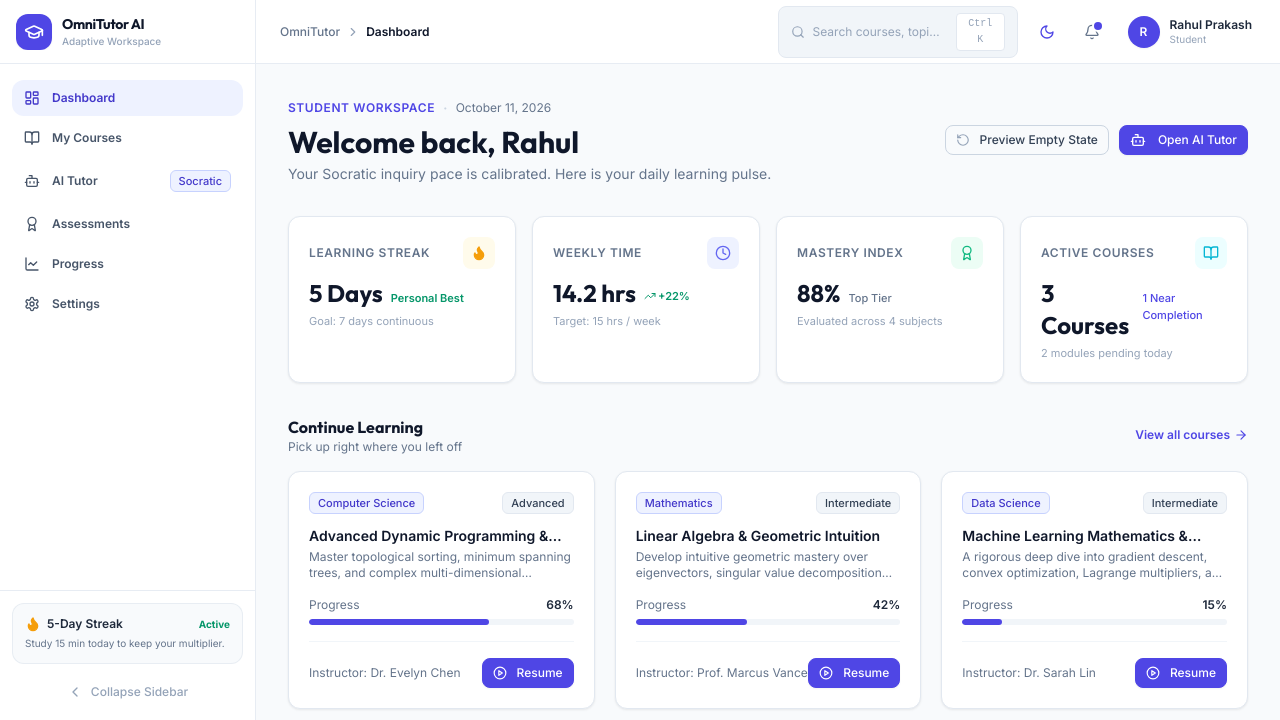
Test: OmniTutor AI SaaS Application Shell & Design System › Toggles between populated view and empty state view on the dashboard
The image size is (1280, 720).
Click to activate empty state
Step 1. Click the button "Preview Empty State" → click(1027, 140), box [945,125,1109,155]
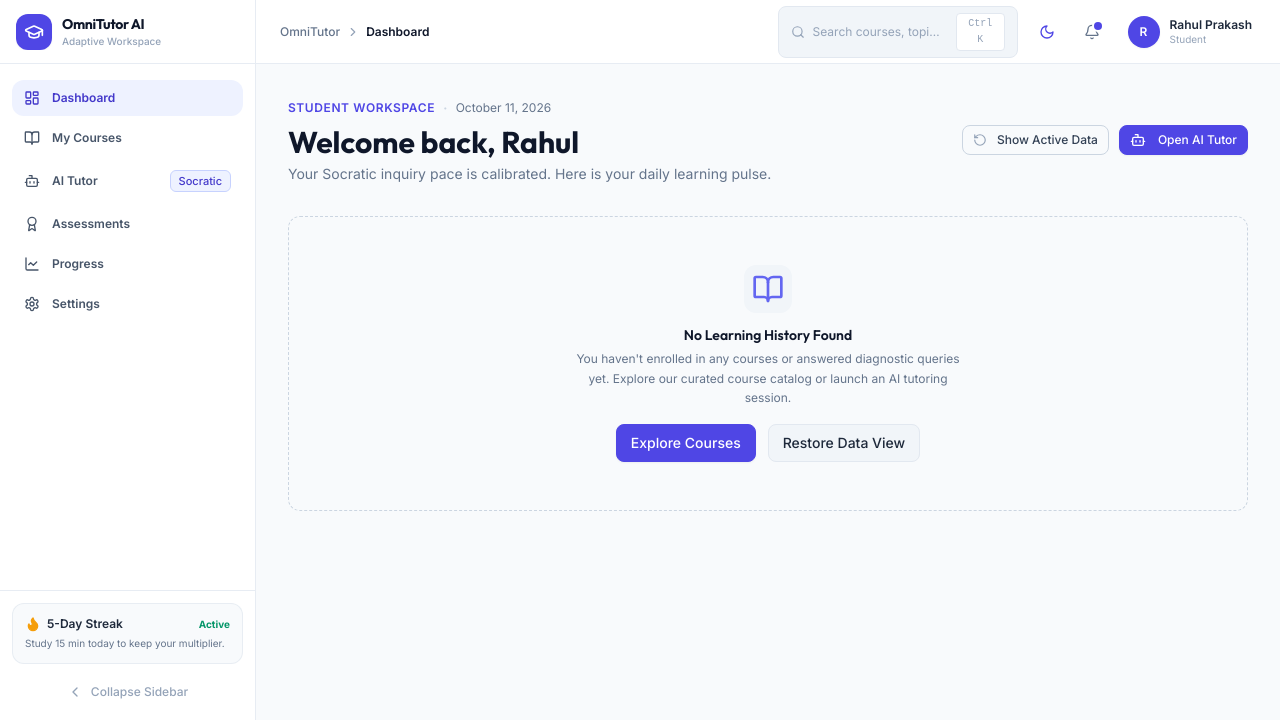
Expected: the heading "No Learning History Found" is shown, [684,325,852,345]
Click restore
Step 2. Click the button "Restore Data View" → click(844, 442), box [768,424,920,462]
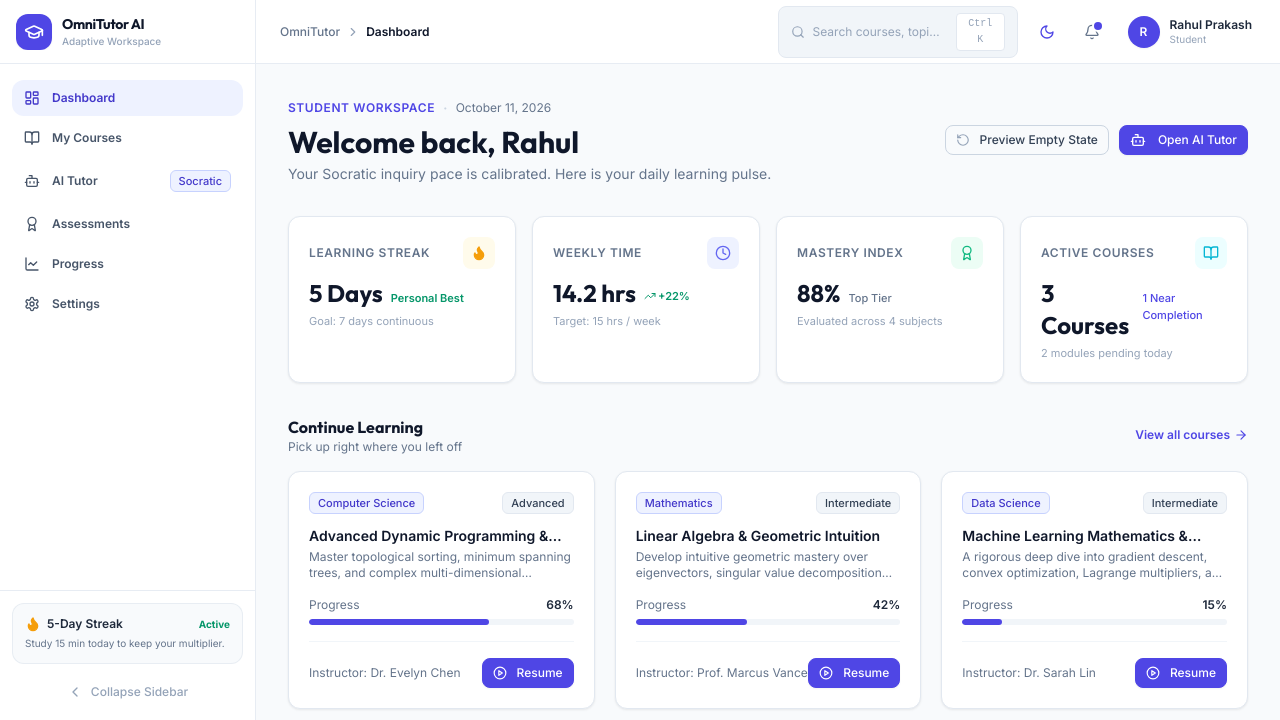
Expected: the heading "Continue Learning" is shown, [288,416,423,436]
